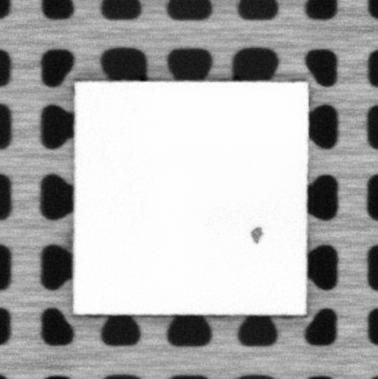DIE_INK: (249, 224, 264, 245)
